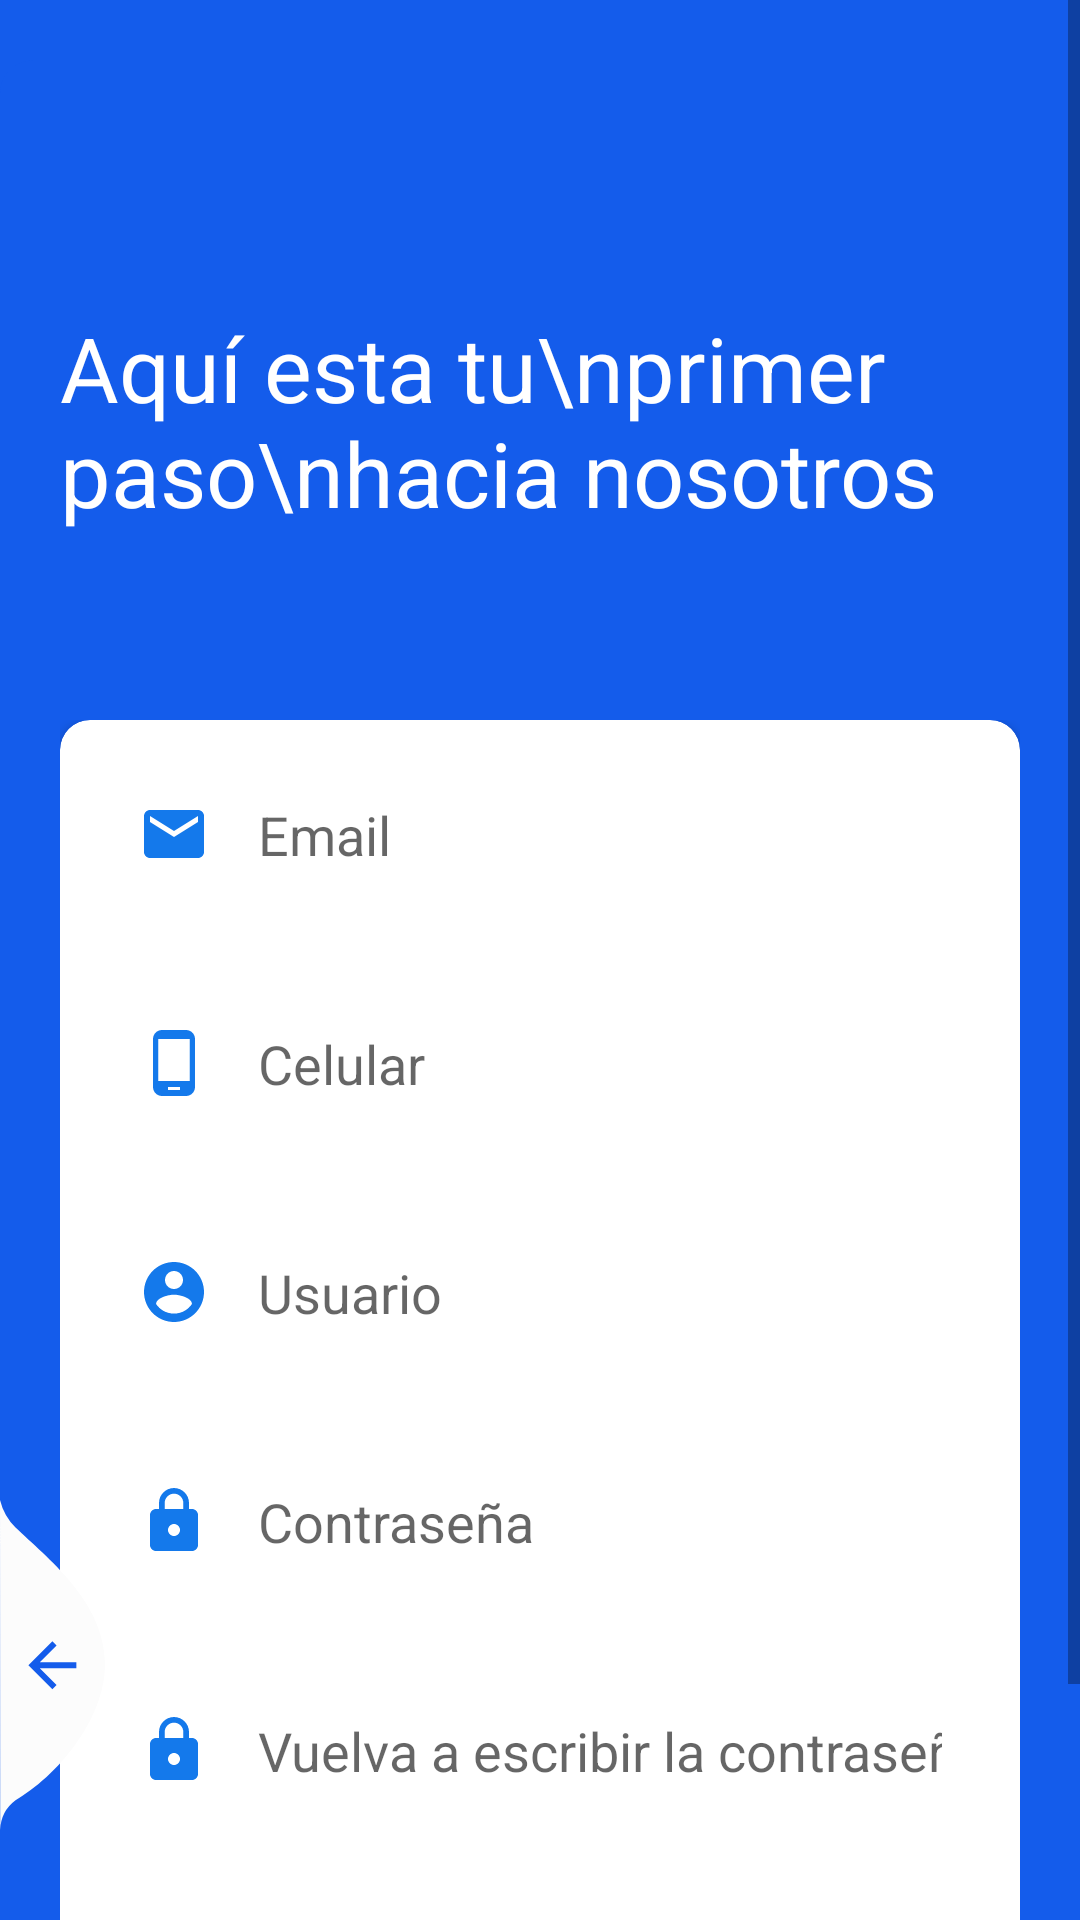

Screen size 1080px×1920px. Icon name, then its box in pixels as (x1, y1, x2, y2):
back: (0, 1500, 77, 1830)
